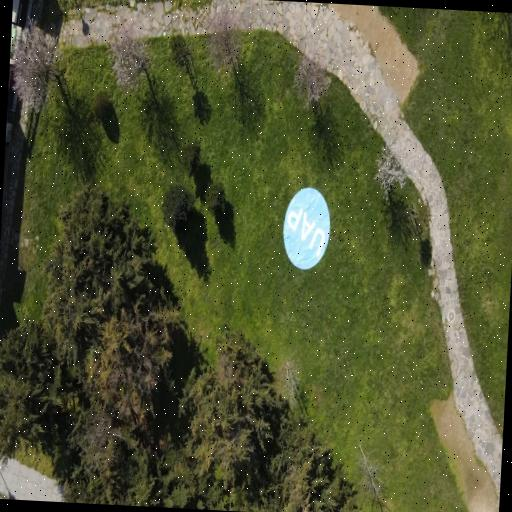UAP: (284, 189, 330, 270)
